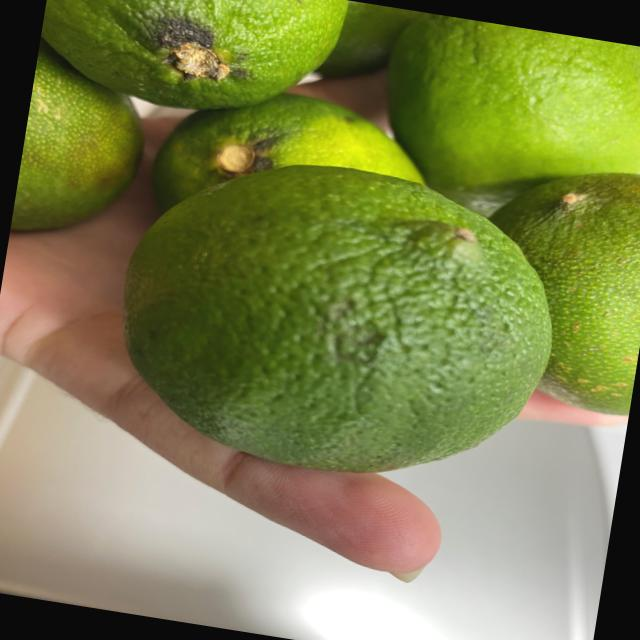lemon: (0, 0, 640, 509)
